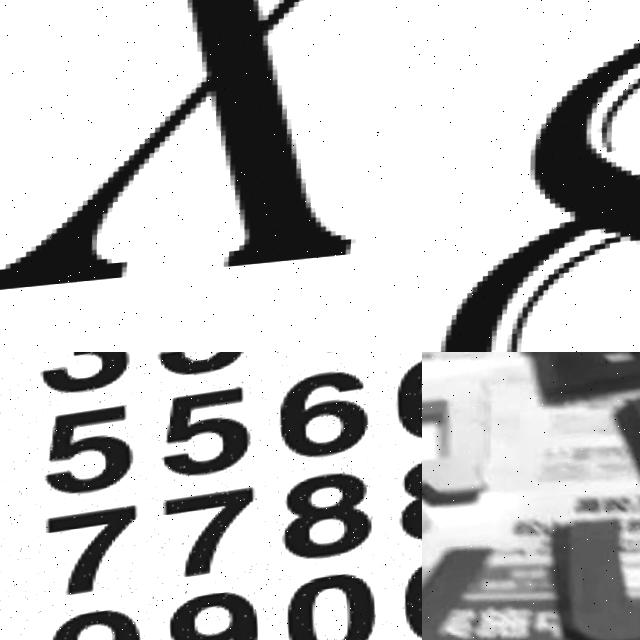0: (280, 568, 386, 640)
3: (32, 352, 135, 401), (156, 352, 254, 382)
5: (153, 384, 259, 488), (39, 401, 144, 504)
6: (274, 367, 383, 470), (389, 352, 422, 455)
7: (39, 499, 152, 603), (156, 486, 269, 588)
8: (422, 0, 640, 352), (281, 469, 383, 571), (398, 452, 422, 553)
9: (165, 586, 270, 640), (44, 602, 149, 640)
Q: (422, 373, 503, 518)
V: (422, 541, 509, 640)
X: (0, 0, 422, 299)
